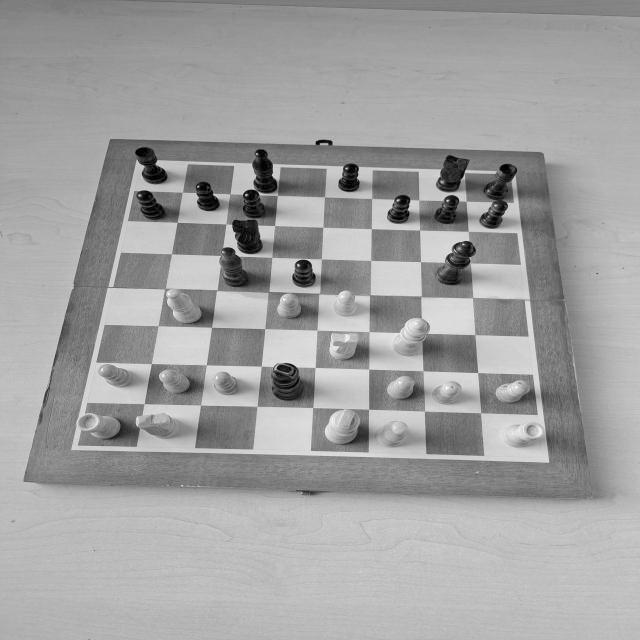chess-table-corners: (66, 436, 92, 455), (530, 449, 554, 466)
